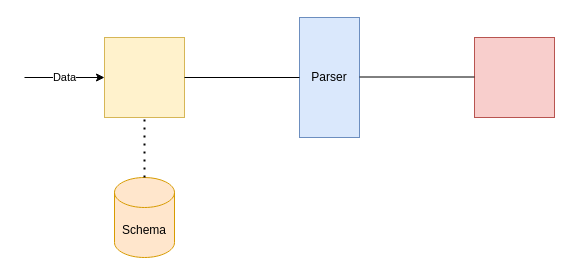
Some shapes in this 572 by 275 pixel diagram are drawn without their labels. Here are the shapes that lost their labels. From the top down, the centre of each, then its label:
the point at 144,77: Validator
the point at 514,77: Application
